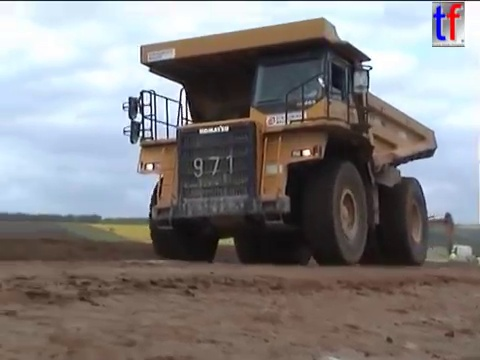excavator: (342, 210, 459, 262)
truck: (120, 14, 440, 269)
worker: (451, 243, 462, 265), (446, 248, 457, 269)
